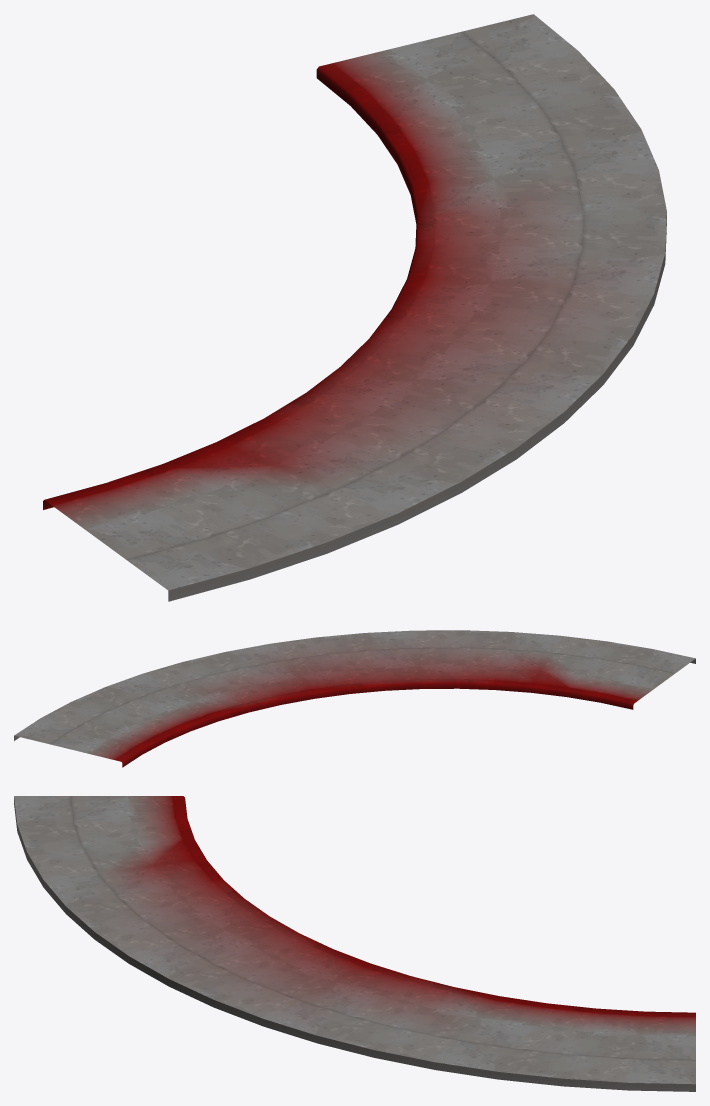
The model's file is Street_Curve_2Lane_Curb.gltf.
The picture shows the model from 3 angles, top to bottom: view 1: azimuth 30°, elevation 25°; view 2: azimuth 150°, elevation 25°; view 3: azimuth 270°, elevation 25°; orthographic projection. The views are drawn at different scales.
Parts seen in each view (by area): view 1: Street_Curve_2Lane_Curb; view 2: Street_Curve_2Lane_Curb; view 3: Street_Curve_2Lane_Curb.
Boxes of the visible parts, bbox=[...] form: Street_Curve_2Lane_Curb: bbox=[43, 14, 666, 601]; Street_Curve_2Lane_Curb: bbox=[14, 630, 695, 767]; Street_Curve_2Lane_Curb: bbox=[14, 796, 695, 1091].
Bounding box in the file's own units: 12 × 0.15 × 12.
1 material, 1 textured.
